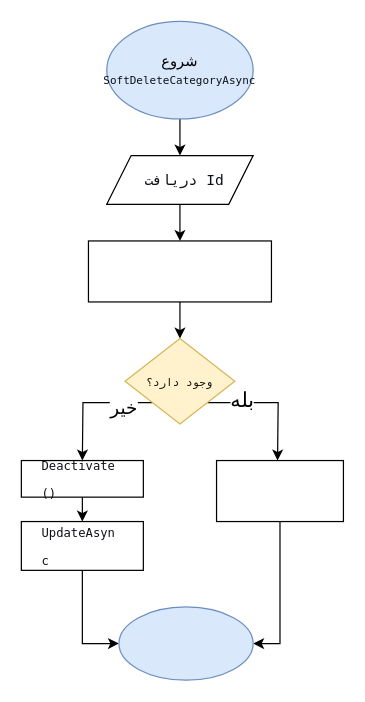
Some shapes in this 365 by 702 pixel diagram are drawn without their labels. Here are the shapes that lost their labels. From the top down, the centre of each, then its label:
the point at 179,271: GetByIdAsync(id)
the point at 279,490: رد شدن کاری نکن
the point at 185,643: پایان
